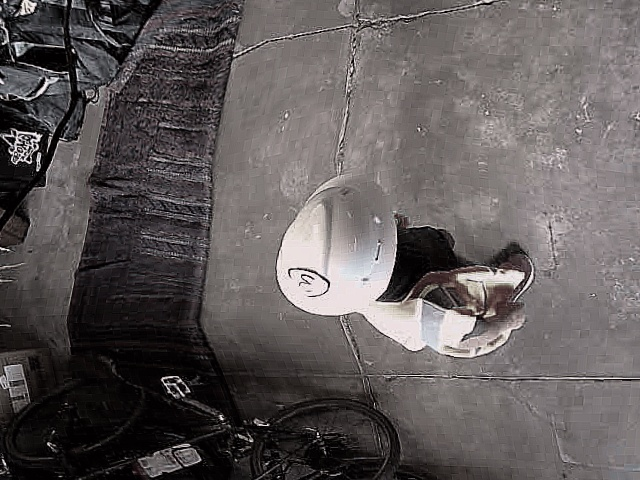three: (285, 268, 330, 295)
